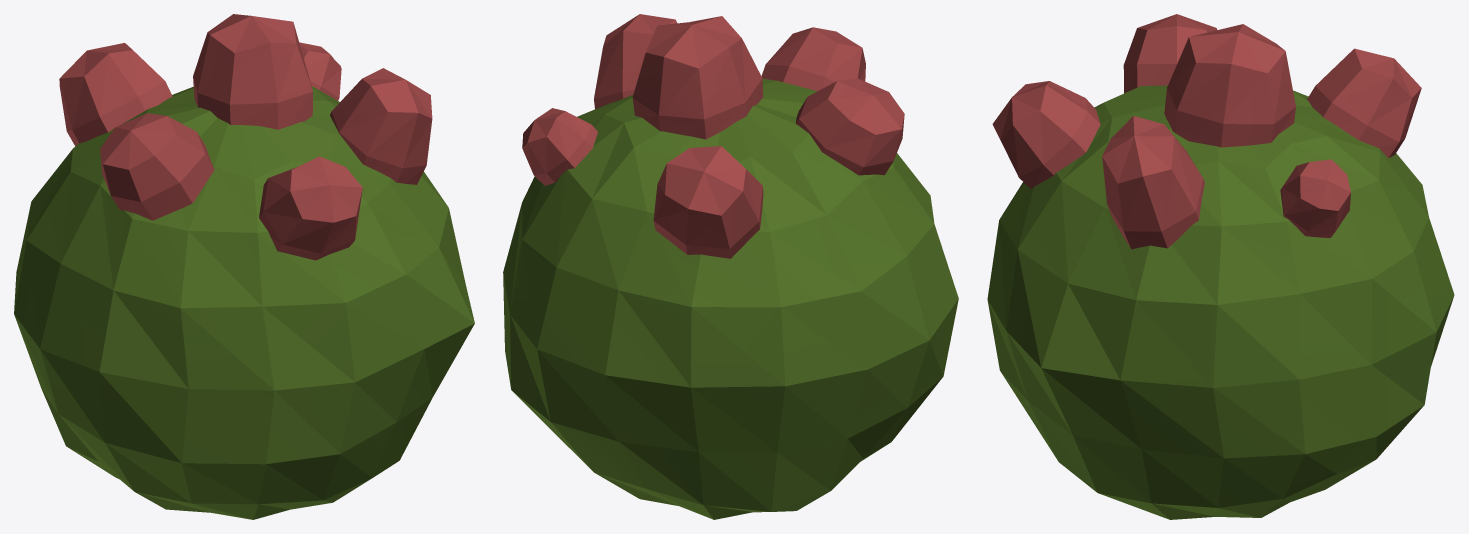
File: Desert_plant_009.glb
3 renders of one model, left to right at view 1: azimuth 30°, elevation 25°; view 2: azimuth 150°, elevation 25°; view 3: azimuth 270°, elevation 25°, orthographic.
Parts seen in each view (by area): view 1: Desert_plant_009; view 2: Desert_plant_009; view 3: Desert_plant_009.
Part boxes in pixels (bbox=[...]): Desert_plant_009: bbox=[14, 14, 474, 519]; Desert_plant_009: bbox=[503, 14, 958, 519]; Desert_plant_009: bbox=[987, 14, 1454, 519].
Bounding box in the file's own units: 0.4373 × 0.4679 × 0.4374.
1 material, 1 textured.
